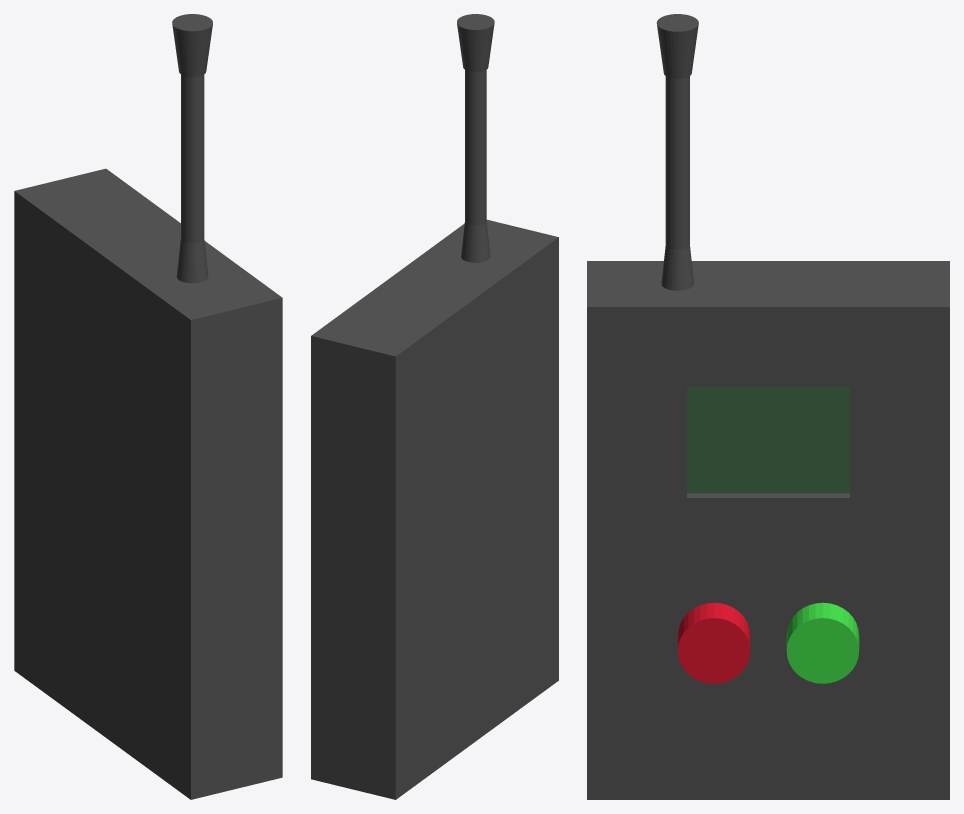
The model's file is Controler.fbx.
The picture shows the model from 3 angles, left to right: view 1: azimuth 30°, elevation 25°; view 2: azimuth 150°, elevation 25°; view 3: azimuth 270°, elevation 25°; orthographic projection. The views are drawn at different scales.
Parts seen in each view (by area): view 1: Cube, Cylinder; view 2: Cube, Cylinder; view 3: Cube, Cylinder, Cylinder.001, Cylinder.002.
Part boxes in pixels (<box>): Cube: <box>14,168,282,799</box>; Cylinder: <box>172,14,212,283</box>; Cube: <box>311,219,558,799</box>; Cylinder: <box>457,14,494,262</box>; Cube: <box>587,261,949,799</box>; Cylinder: <box>656,14,698,290</box>; Cylinder.001: <box>786,602,859,683</box>; Cylinder.002: <box>677,602,750,683</box>.
Bounding box in the file's own units: 40 × 229 × 100.
